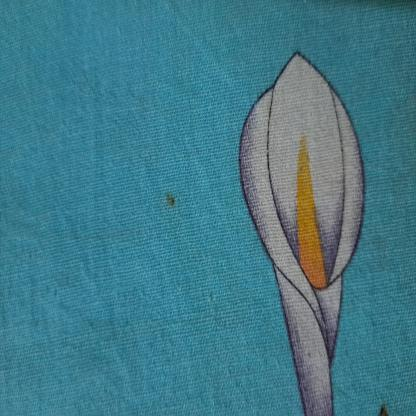spot: (160, 178, 192, 244), (373, 385, 390, 416)
